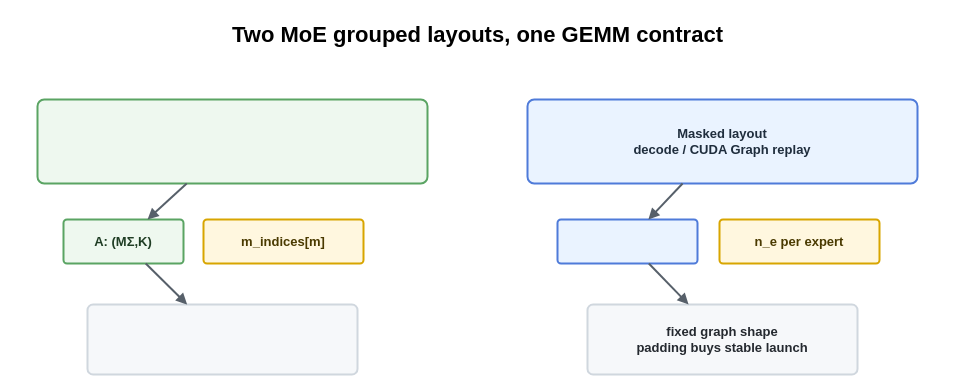
This 954x392 diagram has some shape labels left out. Here are the shapes that lost their labels. From the top down, the centre of each, then its label:
At point 232,141: "Contiguous layout prefill / training forward".
At point 627,241: "A: (E,max_m,K)".
At point 222,339: "compact M axis padding is aligned then skipped".
